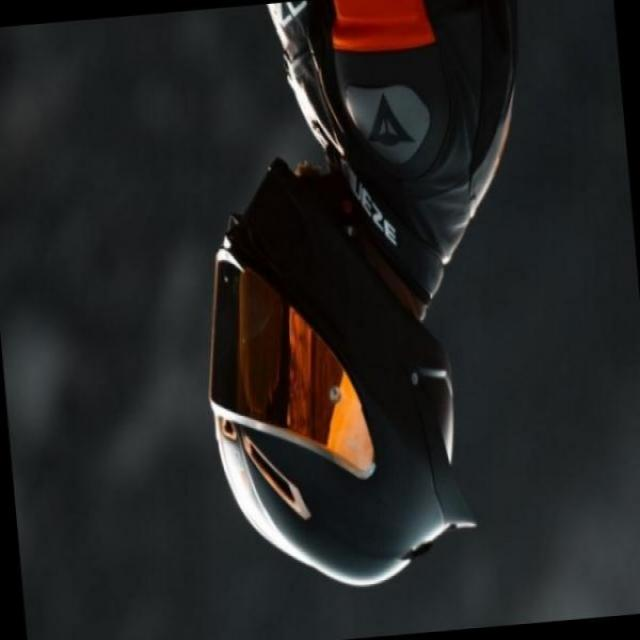Helmet: (206, 169, 498, 576)
